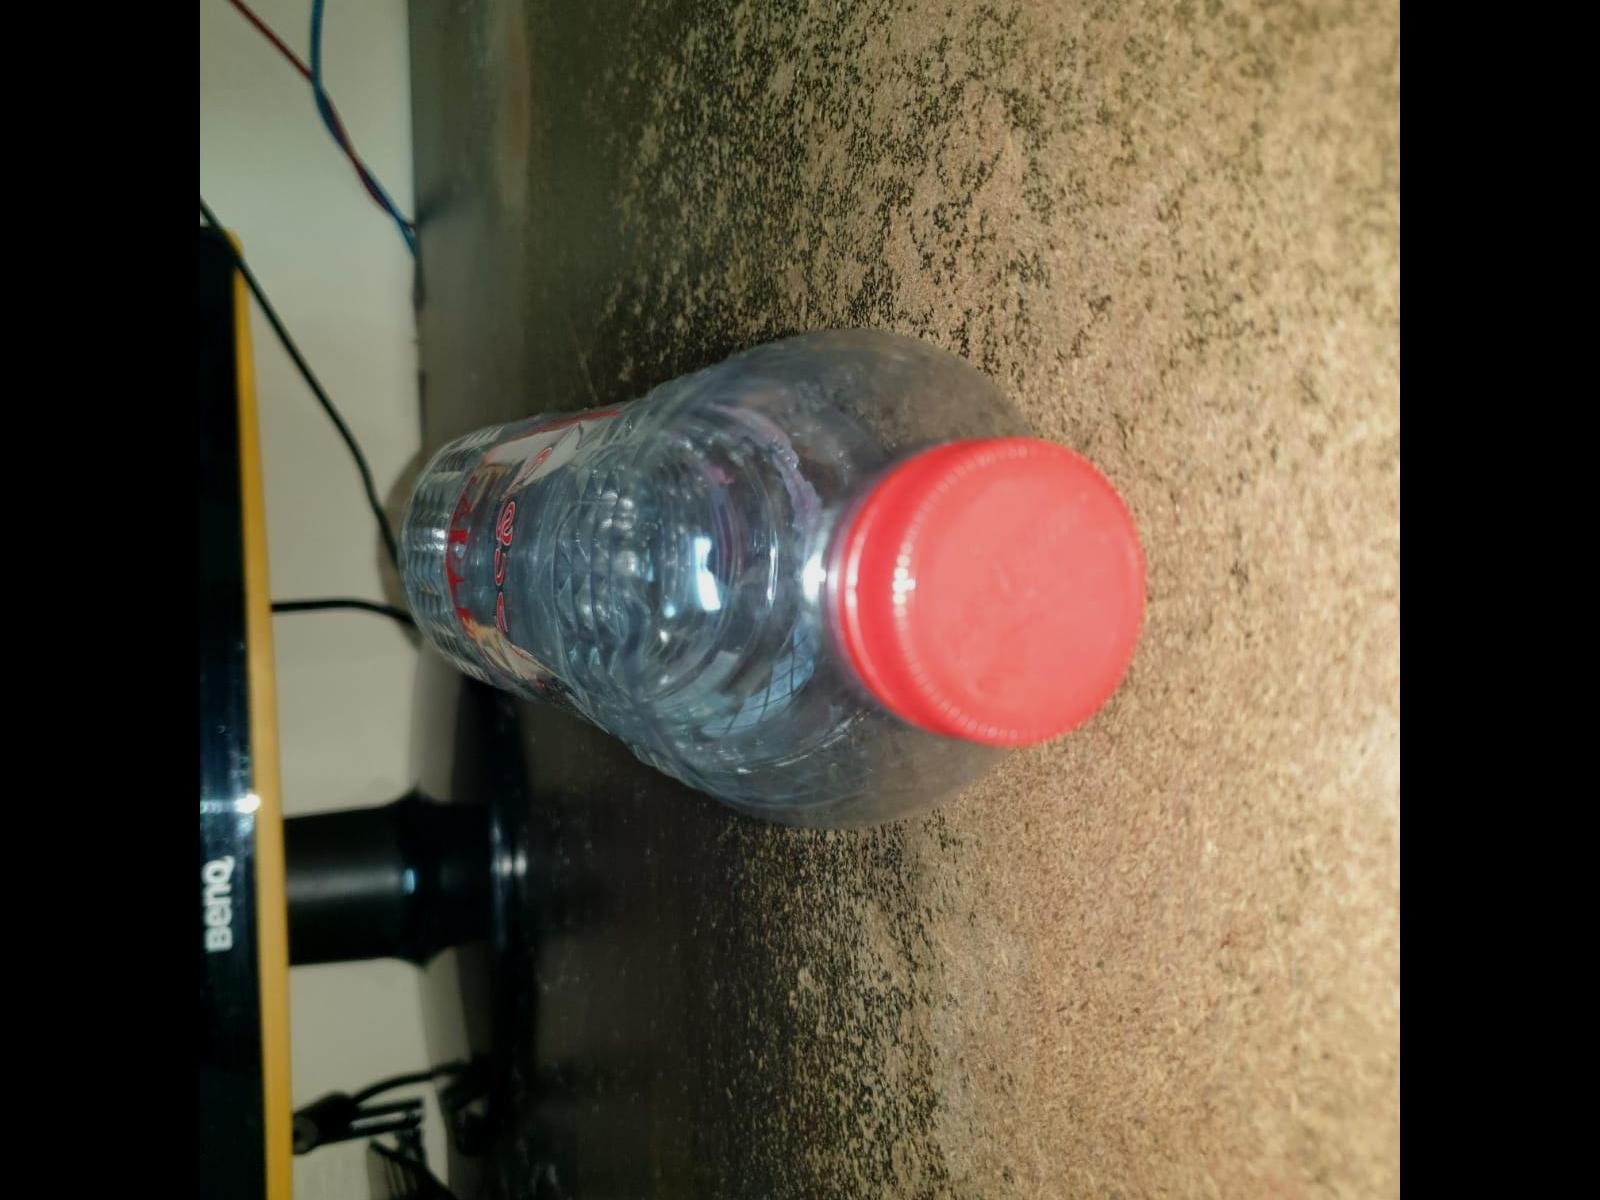bottle: (378, 312, 1170, 833)
